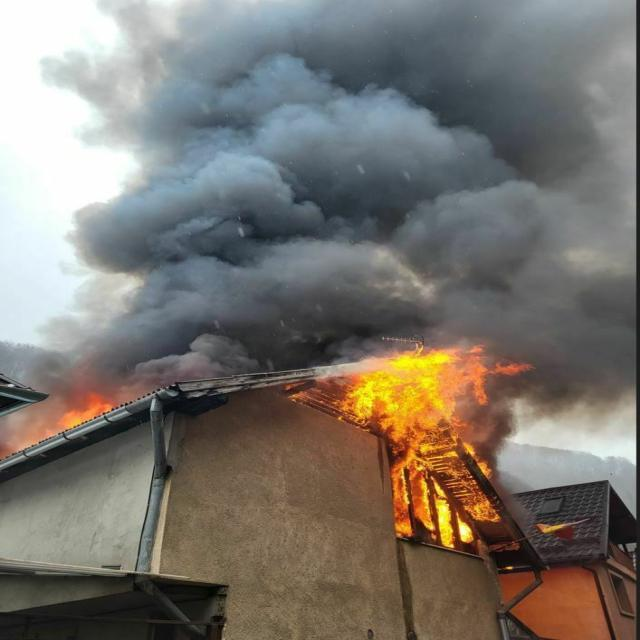Fire: (332, 337, 510, 542), (28, 388, 122, 446)
Smoke: (33, 0, 640, 388)
